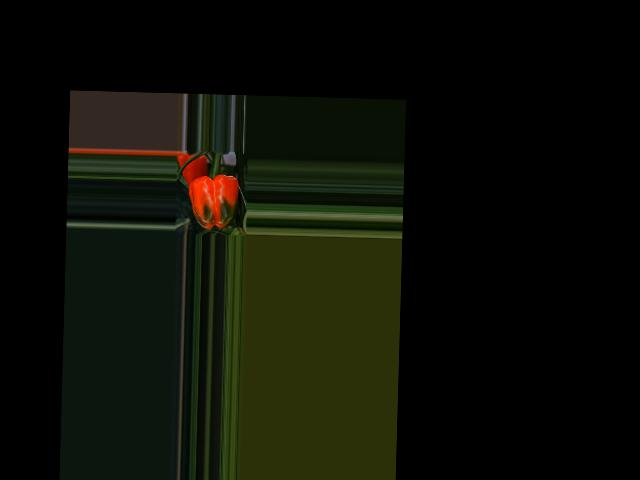bell_pepper: (185, 167, 246, 234)
